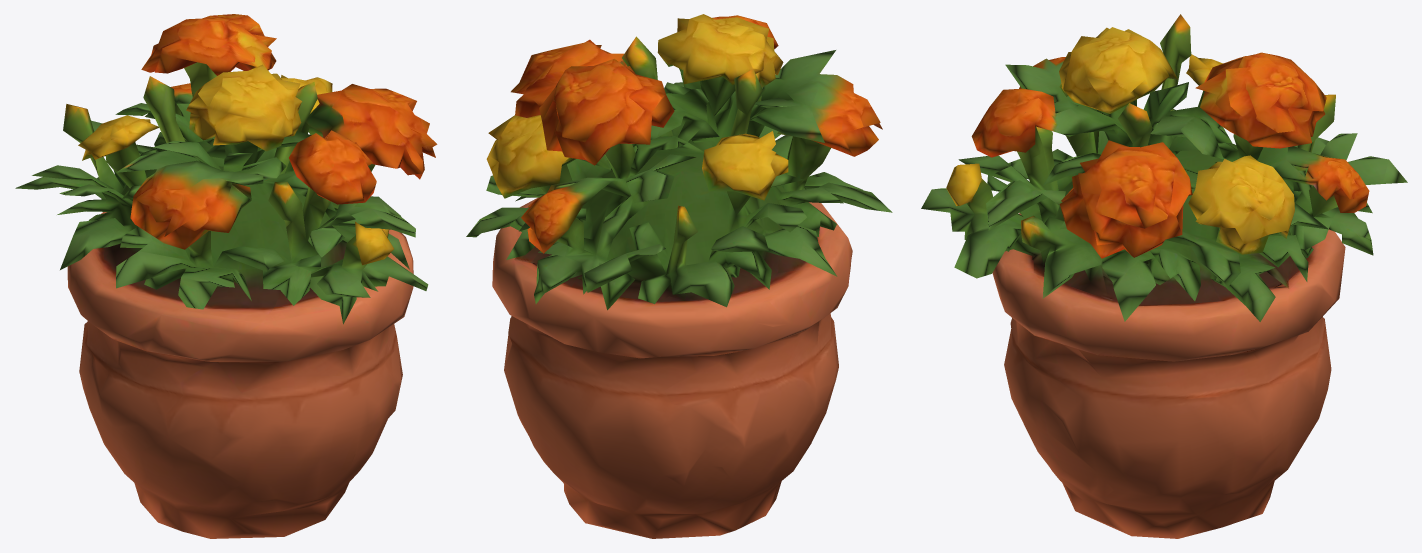
Rendered from street-marigold-planter.glb.
3 renders of one model, left to right at view 1: azimuth 30°, elevation 25°; view 2: azimuth 150°, elevation 25°; view 3: azimuth 270°, elevation 25°, orthographic. The views are drawn at different scales.
Parts seen in each view (by area): view 1: tripo_node_66dfedc5-f45e-426e-bbe3-05f433c1f459; view 2: tripo_node_66dfedc5-f45e-426e-bbe3-05f433c1f459; view 3: tripo_node_66dfedc5-f45e-426e-bbe3-05f433c1f459.
Part boxes in pixels (box(x1,y1,x2,y2)): tripo_node_66dfedc5-f45e-426e-bbe3-05f433c1f459: box(15, 14, 437, 538); tripo_node_66dfedc5-f45e-426e-bbe3-05f433c1f459: box(466, 14, 892, 538); tripo_node_66dfedc5-f45e-426e-bbe3-05f433c1f459: box(921, 14, 1407, 538).
Size of the model in its own units: 0.7784 by 1 by 0.9831.
1 material, 1 textured.
